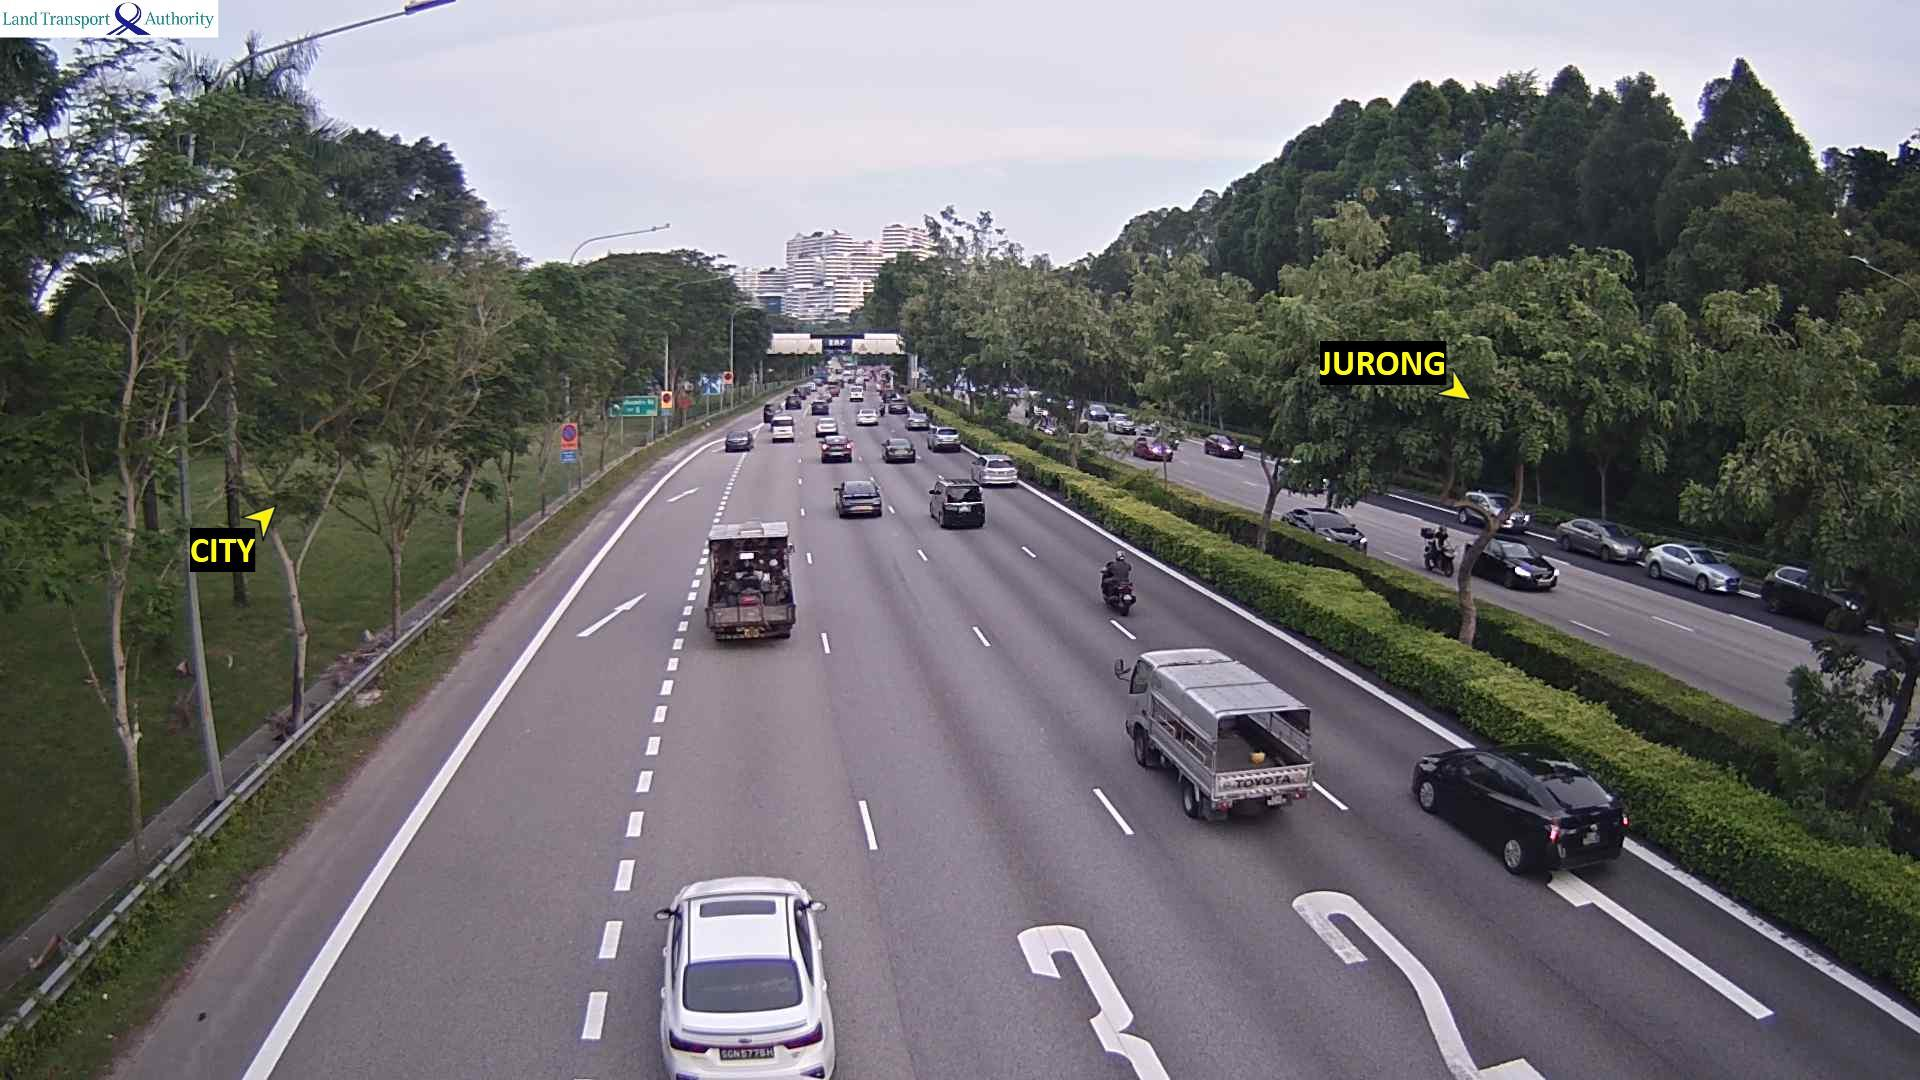cars: (653, 874, 836, 1078), (1409, 743, 1629, 875), (1760, 562, 1871, 632), (1642, 541, 1742, 594), (1470, 535, 1558, 591), (1554, 516, 1643, 564), (1281, 506, 1368, 554), (1453, 489, 1531, 532), (927, 475, 985, 528), (832, 478, 882, 518), (1274, 457, 1328, 494), (969, 453, 1018, 487), (1131, 435, 1174, 461), (1203, 432, 1243, 458), (819, 434, 853, 462), (881, 435, 916, 462), (926, 424, 961, 451), (723, 428, 754, 451), (769, 415, 794, 442), (813, 415, 838, 438), (1107, 412, 1134, 433), (1083, 402, 1109, 423), (1034, 415, 1059, 435), (904, 410, 930, 429), (885, 394, 908, 414), (855, 406, 879, 425), (809, 396, 830, 415), (847, 384, 864, 401), (761, 402, 776, 421), (823, 383, 842, 398), (783, 393, 800, 409), (795, 384, 808, 400), (806, 383, 817, 391)
motorcycle: (1098, 565, 1136, 616), (1419, 524, 1456, 576), (878, 401, 886, 416)
trucks: (1113, 645, 1315, 822), (703, 519, 796, 642)
